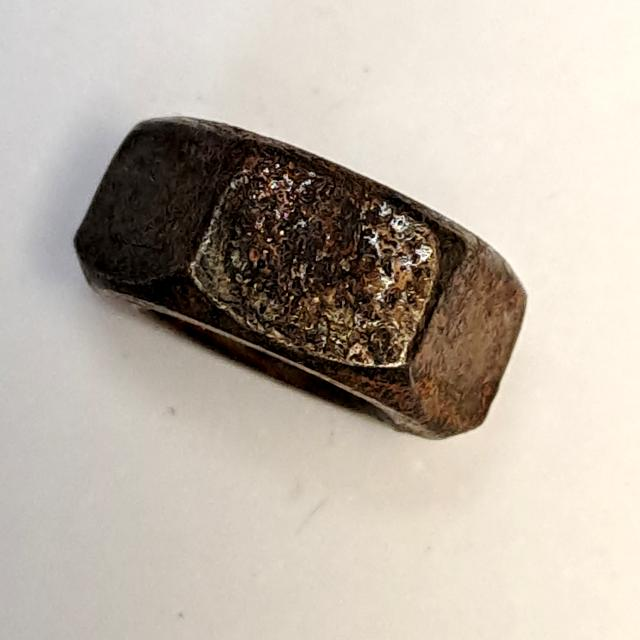Side_Rust: (49, 96, 547, 458)
